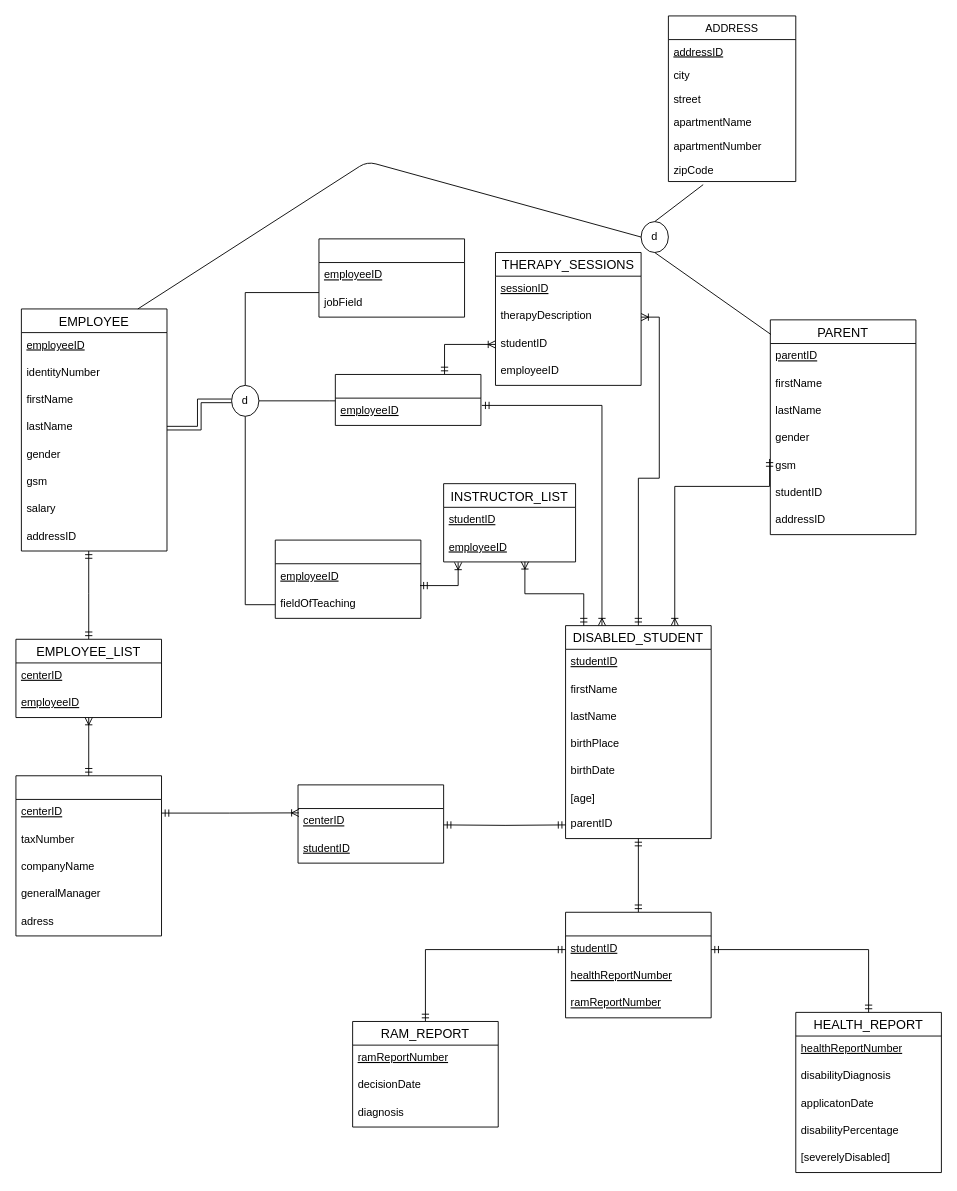
This 957x1191 diagram has some shape labels left out. The box of each missing label's shape, as (x1, y1, x2, y2) in pixels:
INSTRUCTOR: (274, 539, 421, 618)
PSYCHOLOGIST: (334, 374, 481, 425)
REHAB_CENTER: (15, 775, 162, 936)
REPORT_LIST: (565, 911, 711, 1018)
STAFF: (318, 238, 465, 317)
STUDENT_LIST: (297, 784, 444, 863)
